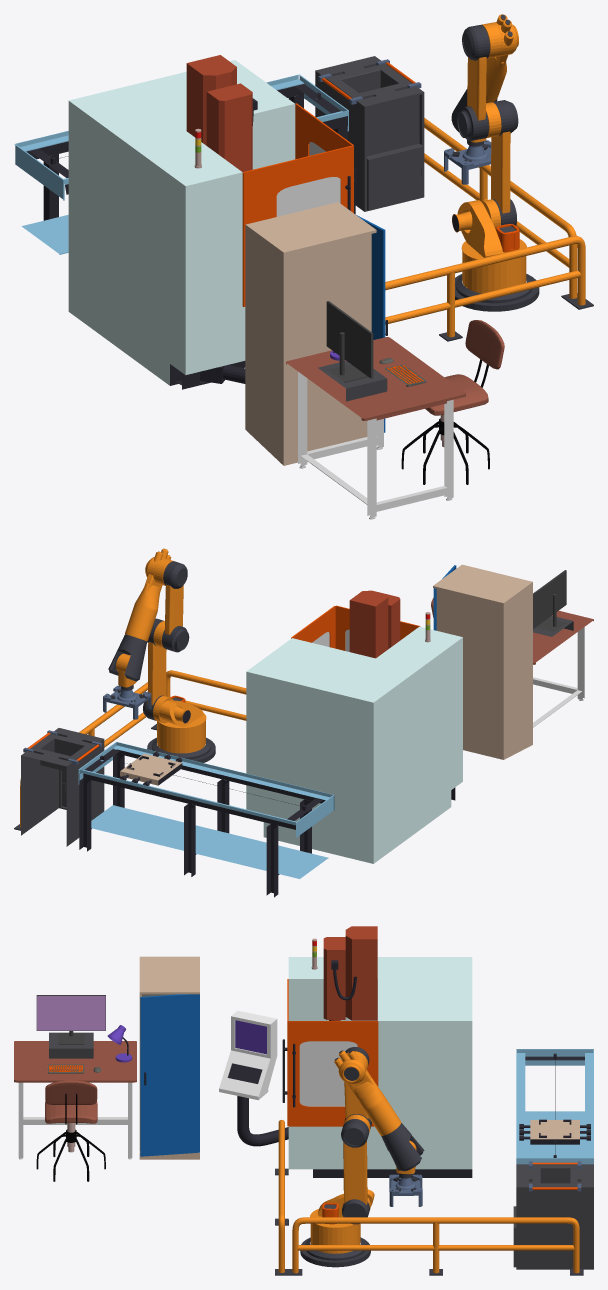
The model's file is Work_exp.glb.
The picture shows the model from 3 angles, top to bottom: view 1: azimuth 30°, elevation 25°; view 2: azimuth 150°, elevation 25°; view 3: azimuth 270°, elevation 25°; orthographic projection. The views are drawn at different scales.
Visible parts, largest first — view 1: 2.5.1.1., 2.7.2.1., 2.3.1., 2.7.1., 2.5.4.1., 2.6.1., 2.5.5.2., 2.6.2., 2.5.5.1., 2.7.4.1., 2.4.2., 2.5.4.2. (+18 smaller); view 2: 2.5.1.1., 2.7.2.1., 2.3.1., 2.2.3., 2.2.5., 2.2.7., 2.5.5.1., 2.7.1., 2.2.6., 2.4.2., 2.2.2., 2.4.16. (+15 smaller); view 3: 2.5.1.1., 2.7.2.2., 2.3.1., 2.5.4.2., 2.7.1., 2.6.2., 2.5.2.5., 2.7.2.1., 2.5.5.1., 2.7.4.1., 2.2.7., 2.5.5.2. (+18 smaller).
Boxes of the visible parts, bbox=[...] form: 2.5.1.1.: bbox=[68, 60, 295, 385]; 2.7.2.1.: bbox=[245, 202, 376, 465]; 2.3.1.: bbox=[315, 56, 424, 211]; 2.7.1.: bbox=[286, 337, 465, 519]; 2.5.4.1.: bbox=[242, 145, 353, 306]; 2.6.1.: bbox=[385, 236, 593, 341]; 2.5.5.2.: bbox=[206, 83, 257, 171]; 2.6.2.: bbox=[424, 118, 577, 302]; 2.5.5.1.: bbox=[186, 55, 236, 145]; 2.7.4.1.: bbox=[326, 301, 373, 378]; 2.4.2.: bbox=[461, 239, 526, 293]; 2.5.4.2.: bbox=[295, 103, 355, 214]; 2.5.1.1.: bbox=[246, 626, 462, 863]; 2.7.2.1.: bbox=[433, 564, 532, 759]; 2.3.1.: bbox=[21, 728, 104, 846]; 2.2.3.: bbox=[91, 805, 328, 878]; 2.2.5.: bbox=[79, 753, 311, 897]; 2.2.7.: bbox=[79, 742, 332, 825]; 2.5.5.1.: bbox=[349, 590, 388, 658]; 2.7.1.: bbox=[533, 610, 593, 727]; 2.2.6.: bbox=[79, 748, 325, 829]; 2.4.2.: bbox=[157, 713, 206, 753]; 2.2.2.: bbox=[120, 751, 182, 785]; 2.4.16.: bbox=[125, 583, 160, 641]; 2.5.1.1.: bbox=[288, 957, 472, 1177]; 2.7.2.2.: bbox=[140, 994, 199, 1156]; 2.3.1.: bbox=[513, 1164, 593, 1269]; 2.5.4.2.: bbox=[288, 1021, 378, 1126]; 2.7.1.: bbox=[14, 1041, 136, 1159]; 2.6.2.: bbox=[288, 1217, 583, 1275]; 2.5.2.5.: bbox=[219, 1010, 277, 1100]; 2.7.2.1.: bbox=[139, 956, 199, 1159]; 2.5.5.1.: bbox=[345, 926, 377, 1020]; 2.7.4.1.: bbox=[36, 995, 105, 1030]; 2.2.7.: bbox=[516, 1049, 593, 1157]; 2.5.5.2.: bbox=[323, 937, 345, 1020].
Bounding box in the file's own units: 2.48 × 1.65 × 3.98.
